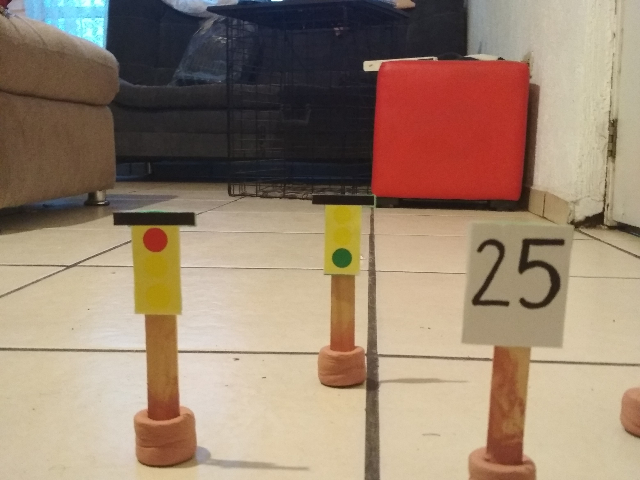Green Traffic Light: (309, 192, 375, 277)
Red Traffic Light: (110, 208, 199, 318)
Speed Limit 25: (456, 215, 578, 351)
